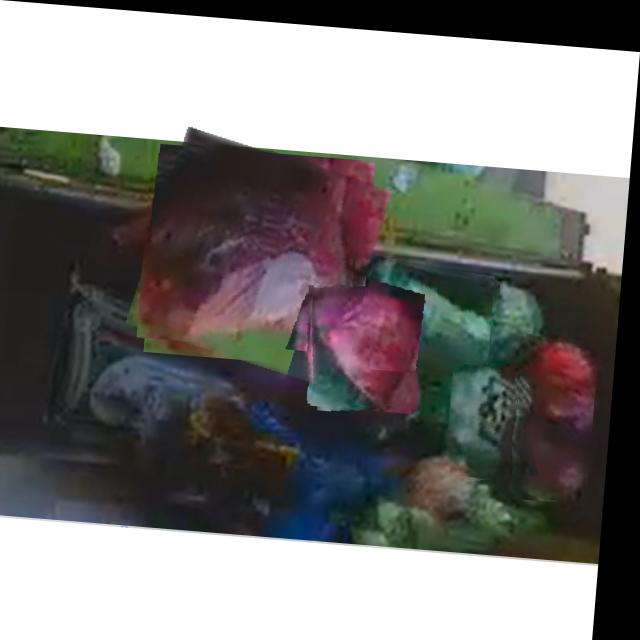general_trashbag: (375, 252, 496, 368), (456, 358, 524, 470)
other_trashbag: (144, 145, 355, 337), (518, 332, 602, 492), (318, 280, 420, 400)
